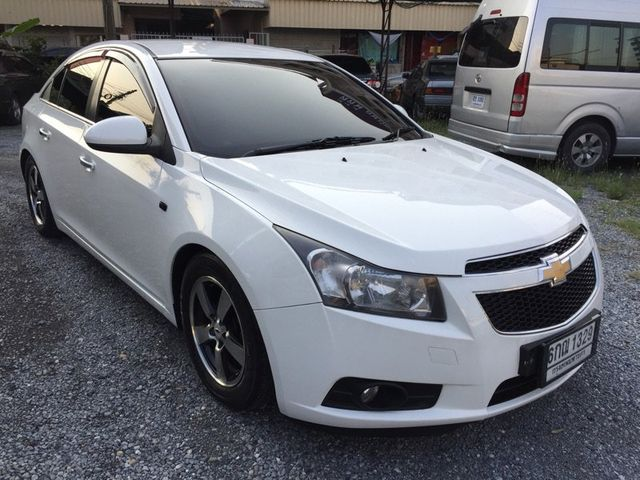sedan: (16, 38, 607, 427)
